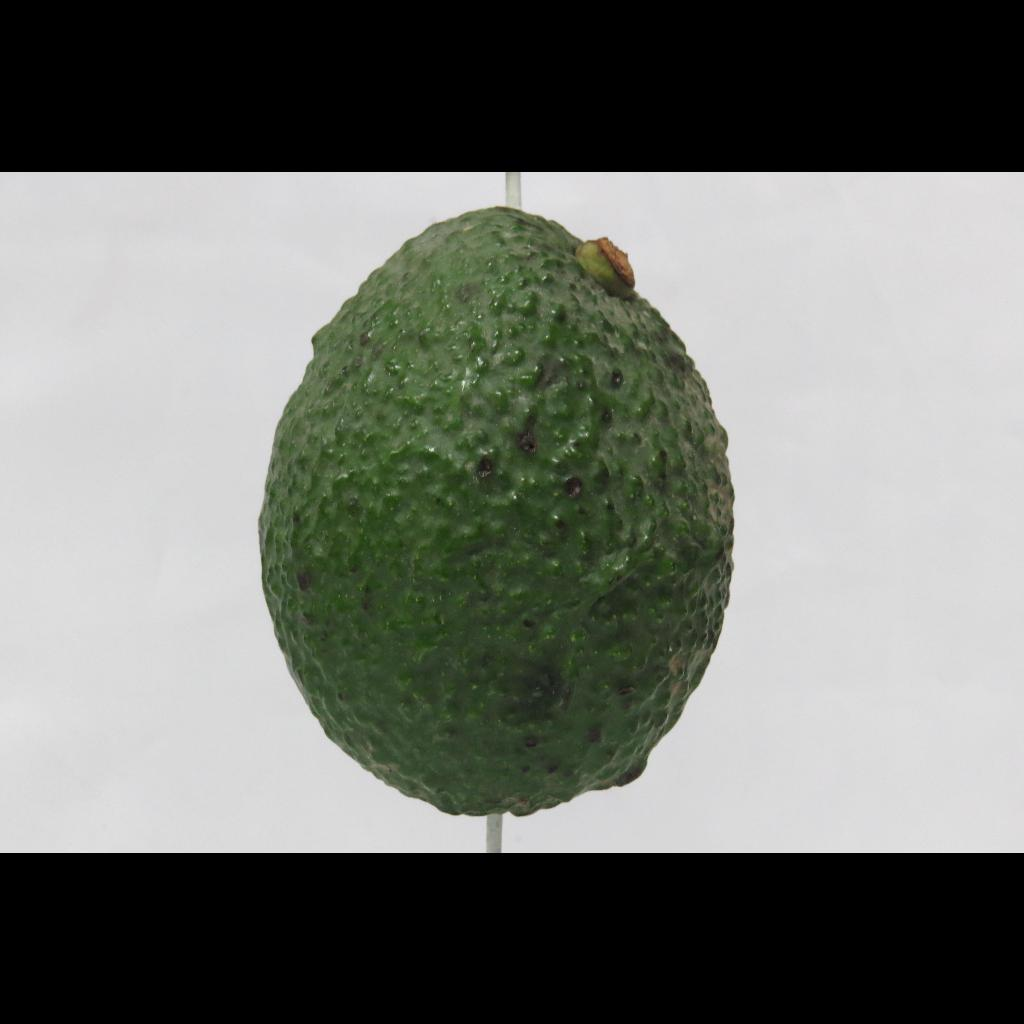fruto_sano: (232, 188, 772, 844)
